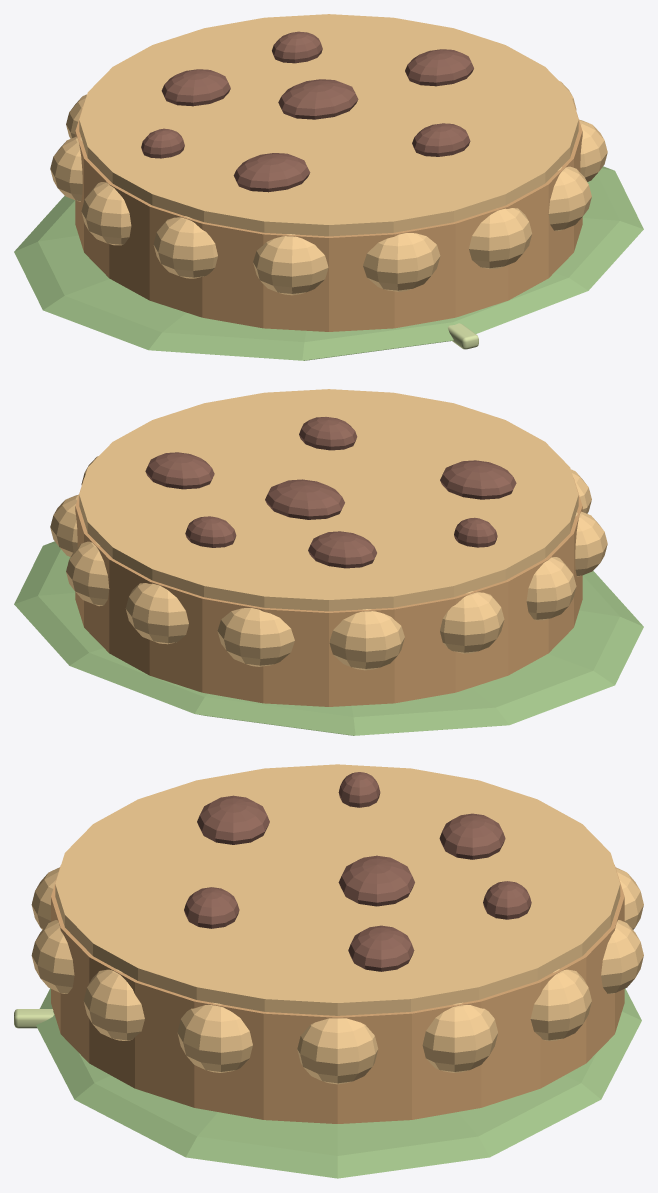
Rendered from Cookie.fbx.
3 renders of one model, top to bottom at view 1: azimuth 30°, elevation 25°; view 2: azimuth 150°, elevation 25°; view 3: azimuth 270°, elevation 25°, orthographic. The views are drawn at different scales.
Parts seen in each view (by area): view 1: Golden top crust, Baked cookie body, Leaf serving mat.001, Cookie crumb rim.010, Cookie crumb rim.009, Cookie crumb rim.008, Cookie crumb rim.011, Chocolate chip.004, Chocolate chip, Cookie crumb rim.007, Cookie crumb rim.012, Chocolate chip.003 (+7 smaller); view 2: Golden top crust, Baked cookie body, Leaf serving mat.001, Cookie crumb rim.004, Cookie crumb rim.005, Cookie crumb rim.006, Cookie crumb rim.003, Chocolate chip.004, Chocolate chip, Cookie crumb rim.007, Cookie crumb rim.002, Chocolate chip.003 (+6 smaller); view 3: Golden top crust, Baked cookie body, Leaf serving mat.001, Cookie crumb rim, Cookie crumb rim.001, Cookie crumb rim.013, Cookie crumb rim.002, Cookie crumb rim.012, Chocolate chip.004, Chocolate chip, Chocolate chip.002, Chocolate chip.003 (+8 smaller).
Boxes of the visible parts, x1,y1,x2,y2 form: Golden top crust: (79, 14, 578, 236); Baked cookie body: (75, 103, 582, 331); Leaf serving mat.001: (14, 166, 643, 360); Cookie crumb rim.010: (363, 233, 440, 291); Cookie crumb rim.009: (253, 234, 328, 295); Cookie crumb rim.008: (153, 216, 217, 278); Cookie crumb rim.011: (469, 208, 532, 269); Chocolate chip.004: (278, 79, 358, 119); Chocolate chip: (233, 153, 310, 192); Cookie crumb rim.007: (81, 182, 131, 245); Cookie crumb rim.012: (548, 166, 591, 231); Chocolate chip.003: (161, 69, 230, 106); Golden top crust: (79, 389, 578, 611); Baked cookie body: (75, 478, 582, 706); Leaf serving mat.001: (14, 541, 643, 735); Cookie crumb rim.004: (217, 608, 294, 666); Cookie crumb rim.005: (329, 609, 404, 670); Cookie crumb rim.006: (440, 591, 504, 653); Cookie crumb rim.003: (125, 583, 188, 644); Chocolate chip.004: (265, 479, 344, 519); Chocolate chip: (440, 460, 516, 499); Cookie crumb rim.007: (526, 557, 576, 620); Cookie crumb rim.002: (66, 541, 109, 606); Chocolate chip.003: (308, 531, 376, 568); Golden top crust: (55, 764, 620, 1015); Baked cookie body: (51, 865, 624, 1123); Leaf serving mat.001: (36, 988, 641, 1178); Cookie crumb rim: (297, 1018, 378, 1084); Cookie crumb rim.001: (422, 1002, 497, 1072); Cookie crumb rim.013: (177, 1002, 252, 1072); Cookie crumb rim.002: (530, 969, 591, 1040); Cookie crumb rim.012: (83, 969, 144, 1040); Chocolate chip.004: (338, 855, 414, 906); Chocolate chip: (197, 795, 269, 844); Chocolate chip.002: (348, 925, 414, 971); Chocolate chip.003: (439, 813, 505, 859).
Size of the model in its own units: 172 by 47.5 by 145.
